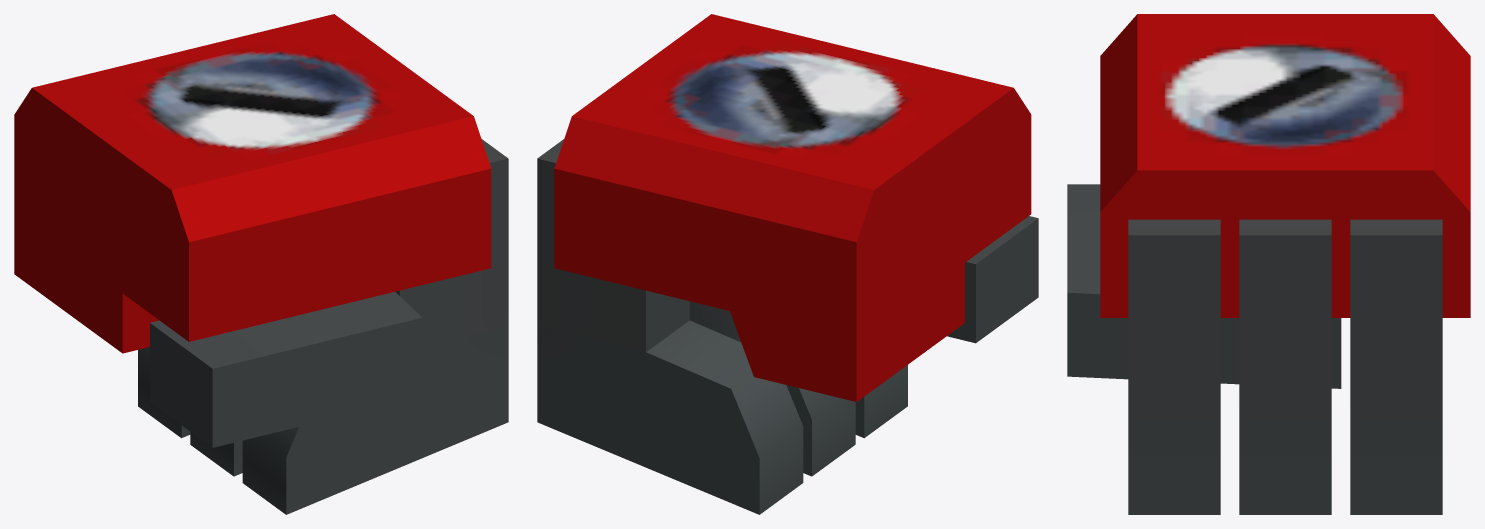
The picture shows the model from 3 angles, left to right: view 1: azimuth 30°, elevation 25°; view 2: azimuth 150°, elevation 25°; view 3: azimuth 270°, elevation 25°; orthographic projection. The views are drawn at different scales.
Visible parts, largest first — view 1: Joint_0_Object_0, Joint_0_Object_1; view 2: Joint_0_Object_0, Joint_0_Object_1; view 3: Joint_0_Object_1, Joint_0_Object_0.
Boxes of the visible parts, x1,y1,x2,y2 form: Joint_0_Object_0: (14, 14, 491, 353); Joint_0_Object_1: (138, 139, 508, 514); Joint_0_Object_0: (554, 14, 1031, 401); Joint_0_Object_1: (537, 139, 1038, 514); Joint_0_Object_1: (1067, 184, 1442, 514); Joint_0_Object_0: (1100, 14, 1470, 317).
Bounding box in the file's own units: 32.67 × 32.73 × 32.35.
Materials: 2 (2 with a texture image).
